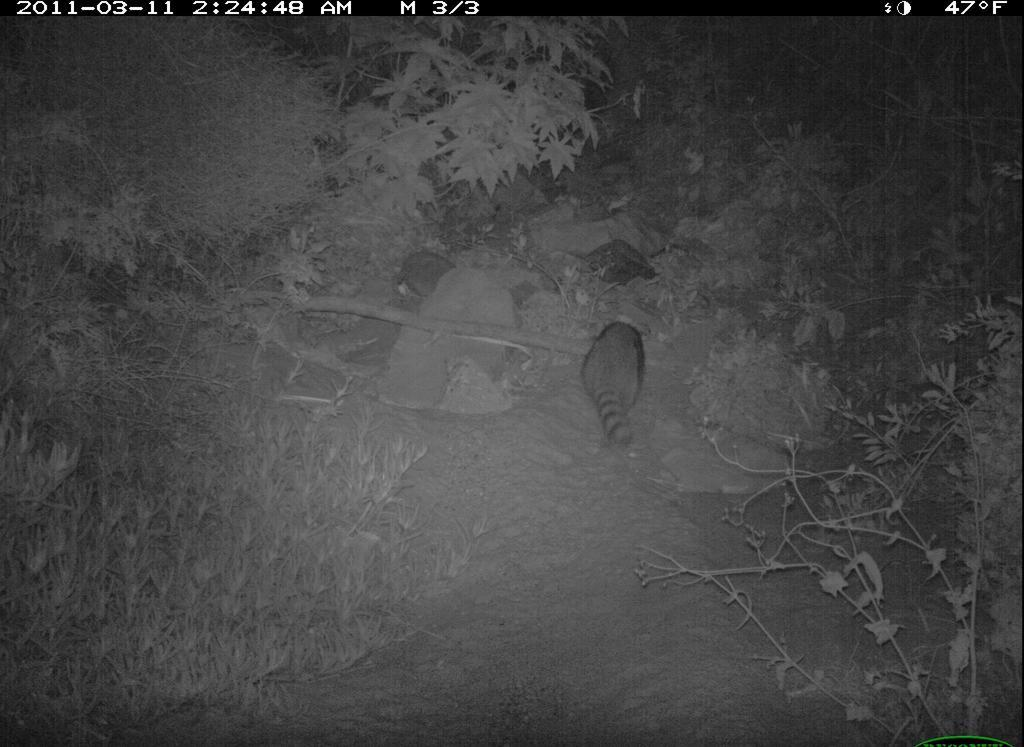raccoon: (565, 312, 661, 446)
